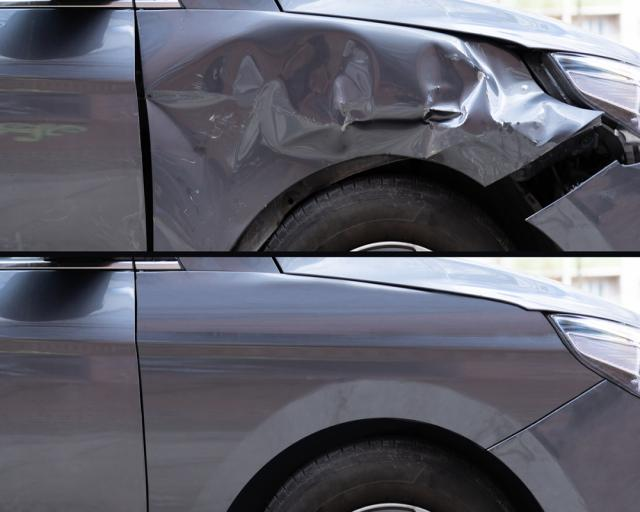dent: (138, 25, 574, 182)
